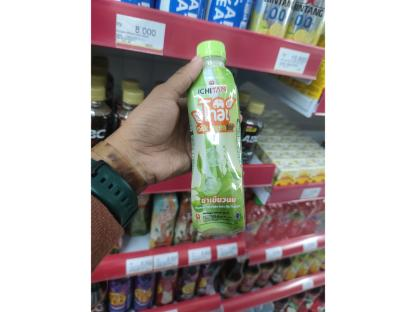Plastic Bottle: (169, 23, 262, 257)
